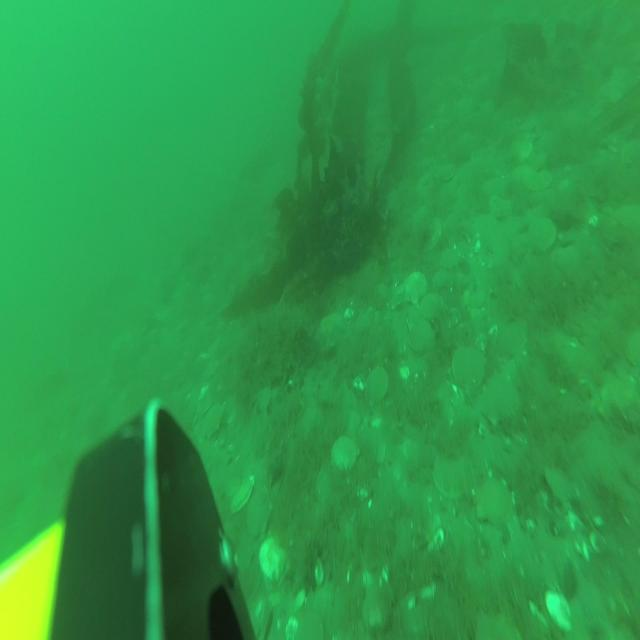scallop: (474, 473, 512, 525), (436, 442, 472, 495), (487, 374, 518, 427), (544, 460, 574, 507), (454, 345, 486, 385), (528, 217, 558, 259), (286, 605, 322, 640), (498, 317, 529, 357), (260, 534, 285, 581), (247, 489, 270, 540), (408, 313, 436, 352), (546, 586, 569, 630), (332, 436, 355, 475), (232, 474, 254, 513), (367, 365, 388, 402), (202, 404, 224, 439), (407, 272, 426, 303), (422, 291, 441, 320), (439, 160, 455, 187)
starfish: (315, 311, 350, 357)
